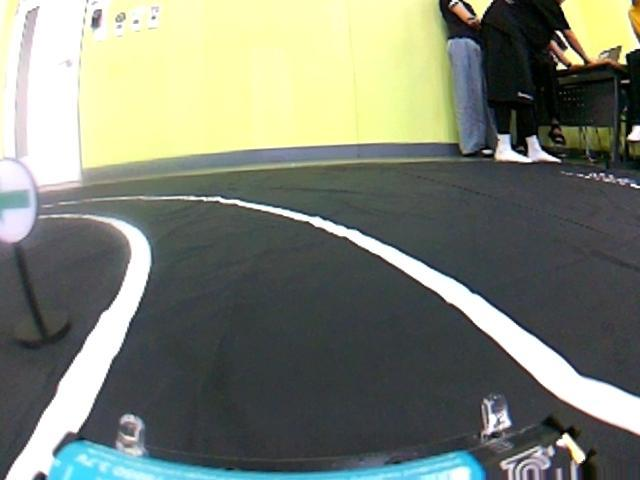sign_left: (0, 153, 52, 245)
straight: (25, 216, 587, 479)
